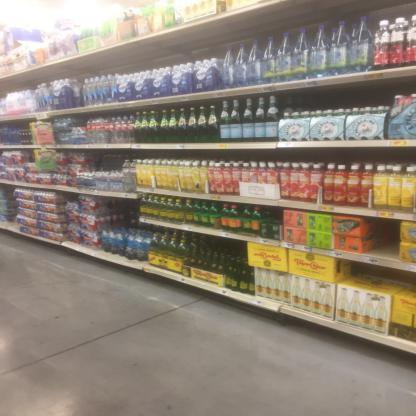Void: (350, 260, 414, 291), (291, 94, 383, 106), (372, 222, 398, 254), (107, 200, 136, 226), (212, 236, 246, 256), (87, 150, 117, 170)
